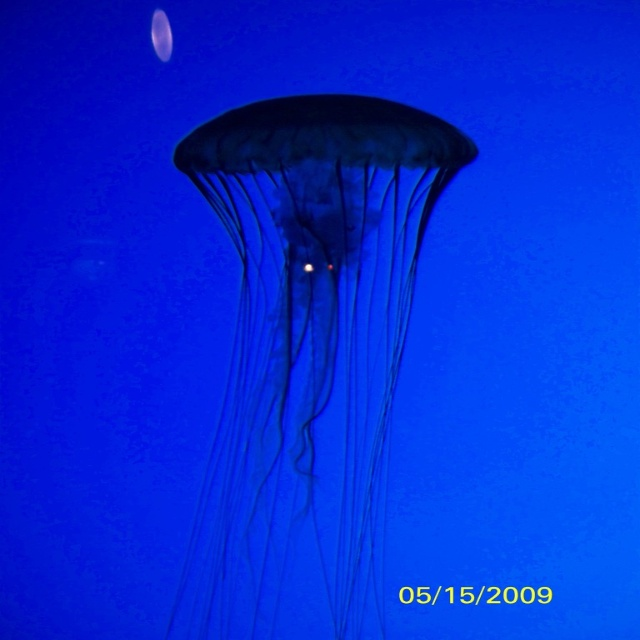Jellyfish: (162, 91, 479, 637)
